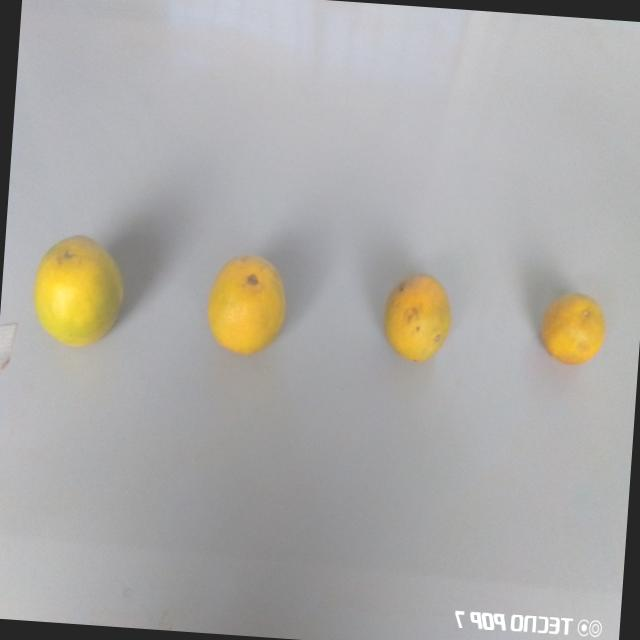Ripe orange: (24, 226, 134, 358), (200, 247, 294, 364), (376, 266, 456, 368), (536, 286, 610, 373)
